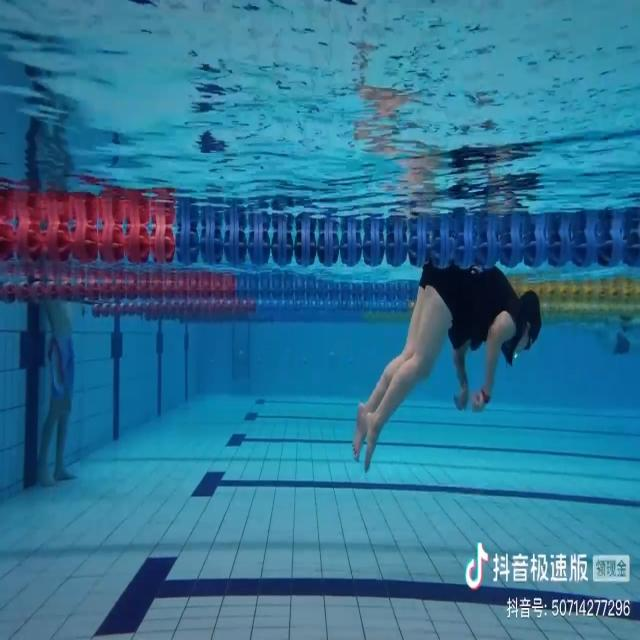Swimming: (352, 266, 542, 474)
